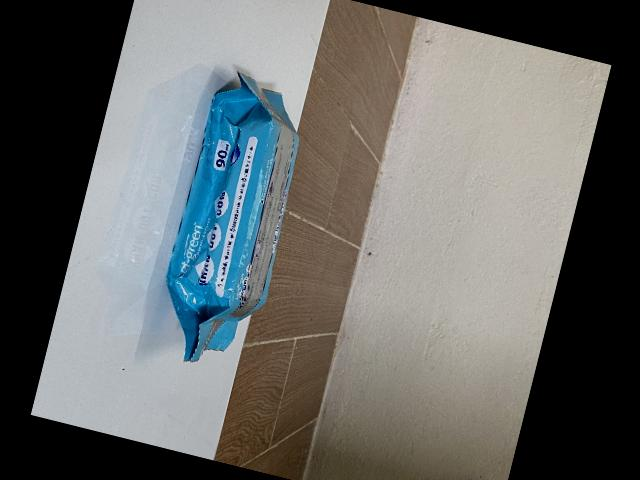Let-green_alcohol_wipes: (163, 69, 297, 362)
